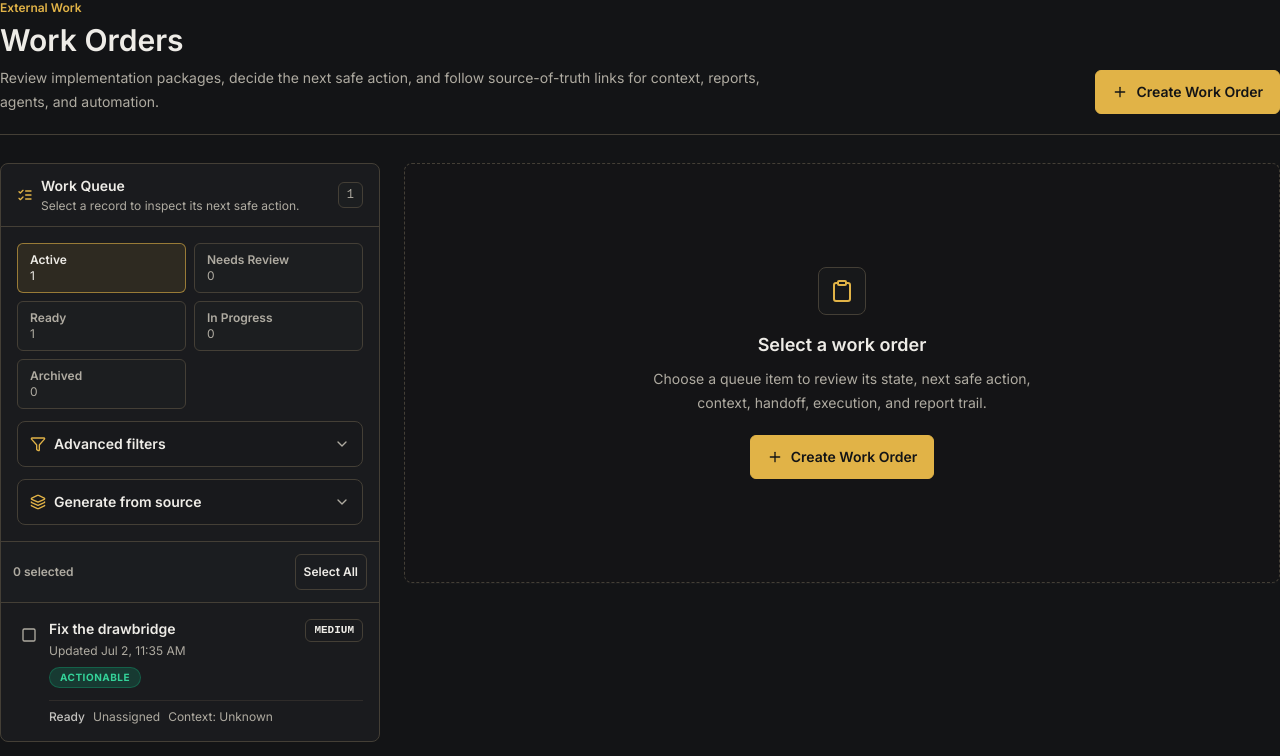
Scenario: WorkOrdersPage — Project Context (M17E-2) › shows a section index while keeping source fields collapsed until requested
Click the heading "Fix the drawbridge": x=117, y=629 [49,619,186,639]
(page scrolled)
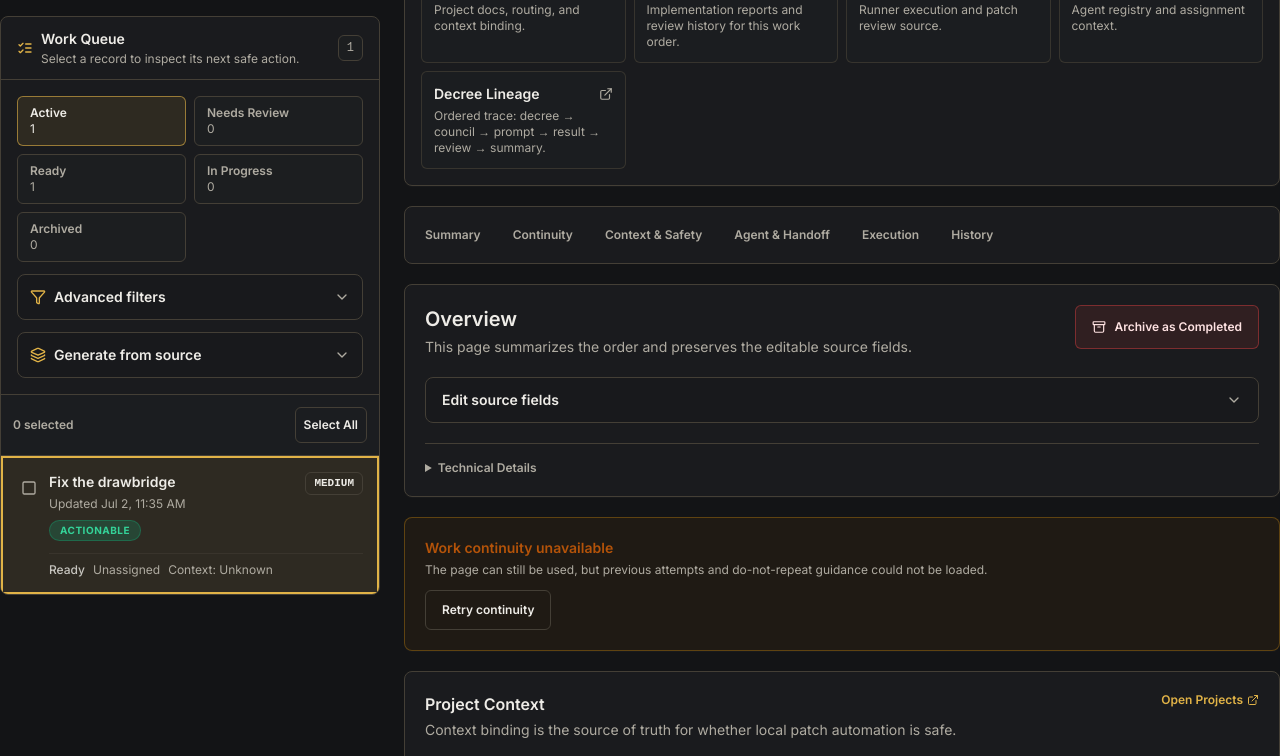
Click the heading "Edit source fields": x=500, y=400 [442,391,1242,408]
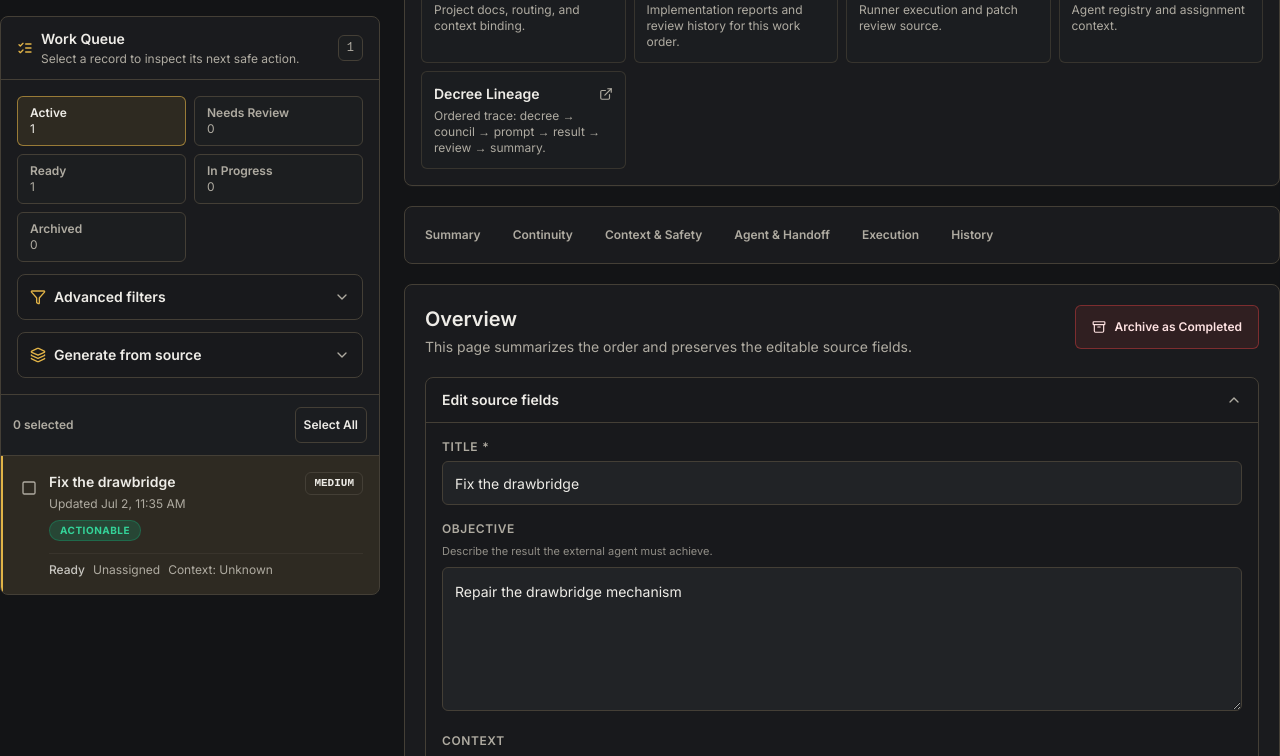
Now the field with id "wo-title" is shown, box [442,461,1242,505]
